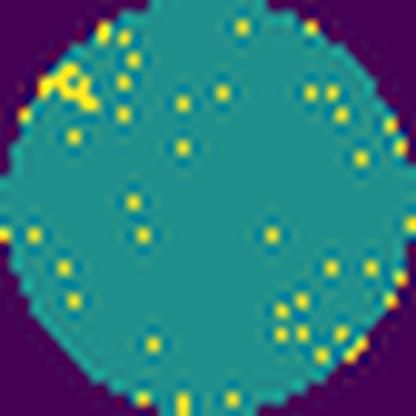Loc: (37, 64, 99, 112)
